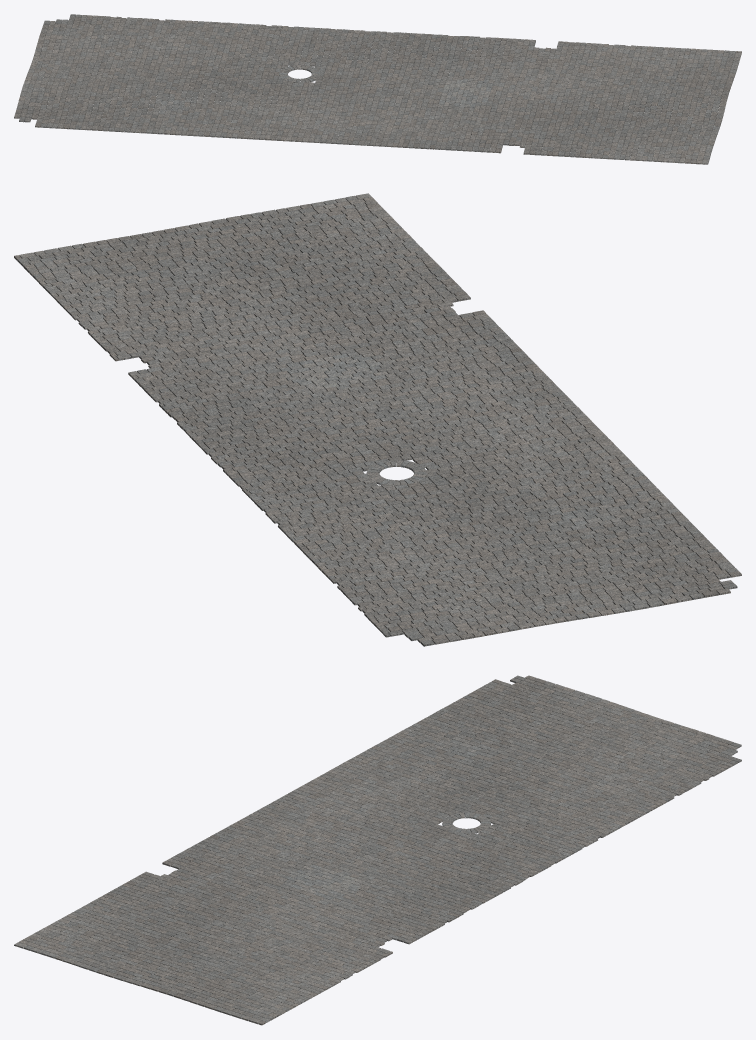
Rendered from arrival-setts.glb.
3 views of the same model, one above another, from view 1: azimuth 30°, elevation 25°; view 2: azimuth 150°, elevation 25°; view 3: azimuth 270°, elevation 25° (orthographic). The views are drawn at different scales.
Parts seen in each view (by area): view 1: Arrival_Unique_Granite_Setts; view 2: Arrival_Unique_Granite_Setts; view 3: Arrival_Unique_Granite_Setts.
Boxes of the visible parts, <box> form: Arrival_Unique_Granite_Setts: <box>14,14,741,164</box>; Arrival_Unique_Granite_Setts: <box>14,193,741,646</box>; Arrival_Unique_Granite_Setts: <box>14,675,741,1025</box>.
Bounding box in the file's own units: 20.51 × 0.043 × 18.1.
Materials: 1 (1 with a texture image).
